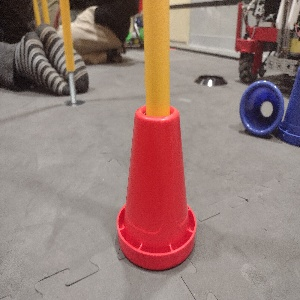Blue_1: (236, 76, 285, 137), (279, 49, 299, 149)
Red_1: (114, 99, 196, 271)
